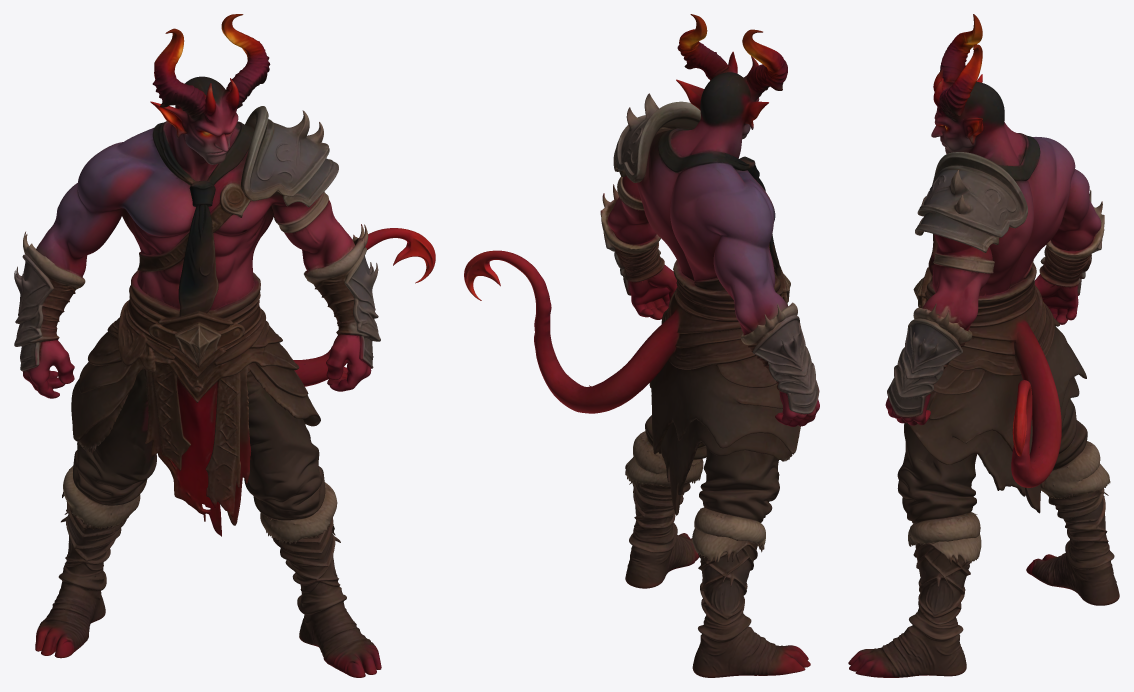
The model's file is tiefling_warrior_full_male_01.glb.
3 renders of one model, left to right at view 1: azimuth 30°, elevation 25°; view 2: azimuth 150°, elevation 25°; view 3: azimuth 270°, elevation 25°, orthographic. The views are drawn at different scales.
Visible parts, largest first — view 1: material; view 2: material; view 3: material.
Boxes of the visible parts, left/top/right/bottom form: material: left=14, top=14, right=435, bottom=677; material: left=464, top=14, right=819, bottom=677; material: left=848, top=14, right=1119, bottom=677.
Size of the model in its own units: 0.6666 by 1.01 by 0.4211.
Materials: 1 (1 with a texture image).
